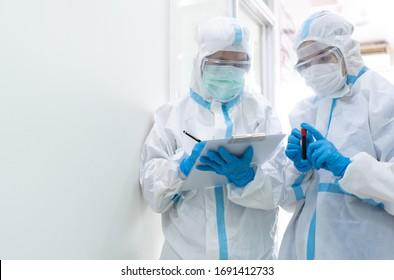gloves: (303, 124, 351, 177), (198, 146, 256, 186), (285, 128, 315, 174), (178, 142, 205, 176)
